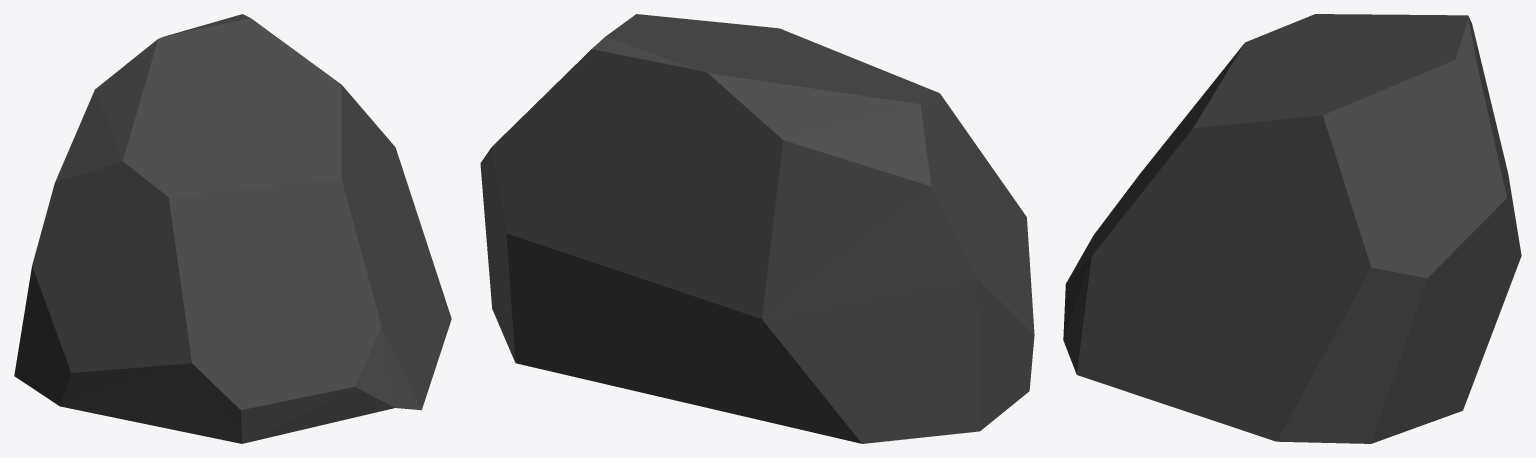
The model's file is rock_3.FBX.
The picture shows the model from 3 angles, left to right: view 1: azimuth 30°, elevation 25°; view 2: azimuth 150°, elevation 25°; view 3: azimuth 270°, elevation 25°; orthographic projection. The views are drawn at different scales.
Parts seen in each view (by area): view 1: rock_3; view 2: rock_3; view 3: rock_3.
Boxes of the visible parts, bbox=[...] form: rock_3: bbox=[14, 14, 451, 443]; rock_3: bbox=[480, 14, 1034, 443]; rock_3: bbox=[1063, 14, 1521, 443].
Bounding box in the file's own units: 1.85 × 1.23 × 1.63.
Materials: 1 (1 with a texture image).
